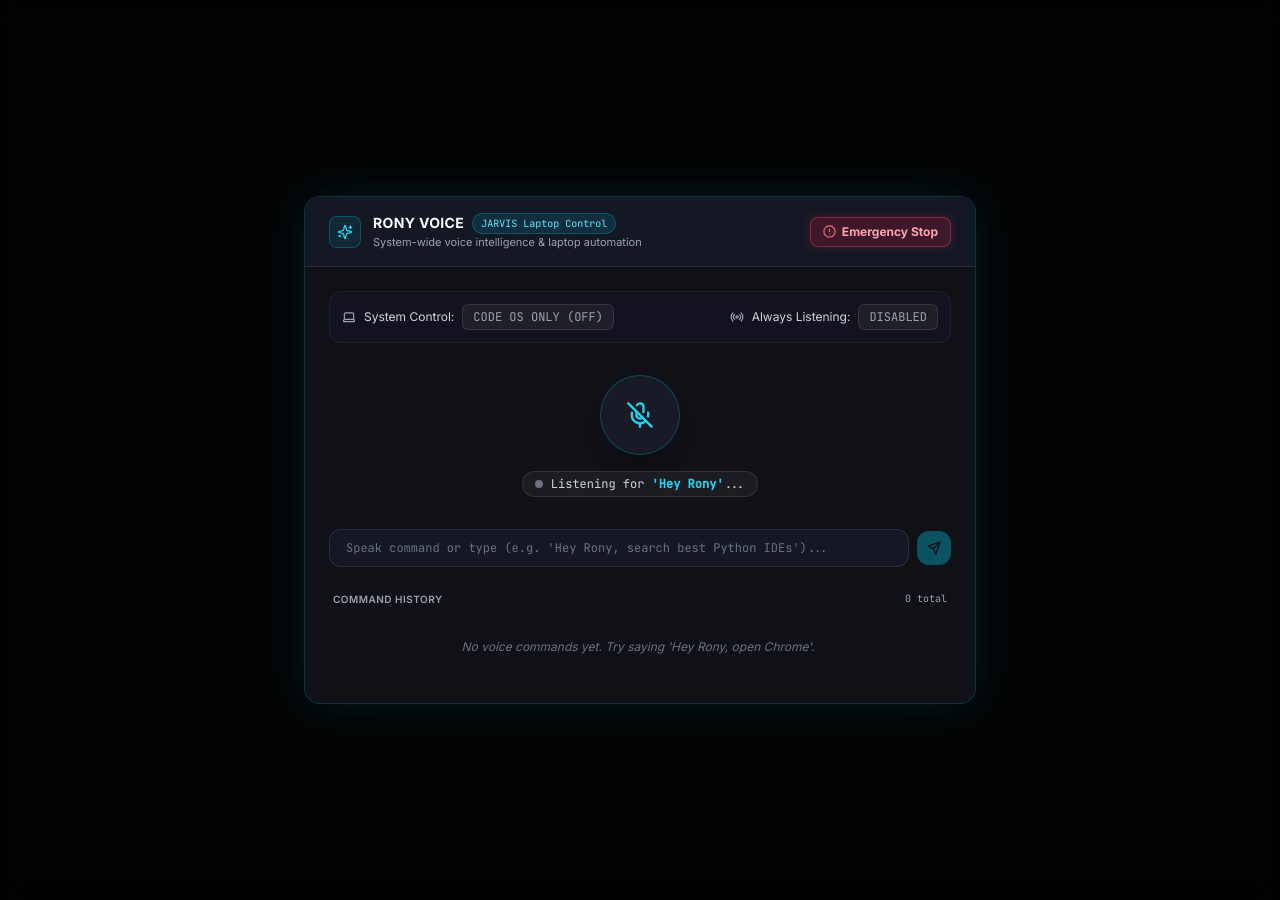
Test: Rony Voice Frontend Test Suite › test_system_control_toggle_renders: renders toggle and switches between Code OS and Laptop Control
Note: Click toggle
What coordinates should you click on to do the following:
click the button with test id "system-control-toggle"
I would click on:
 (538, 317)
Its box is [462,304,614,330].
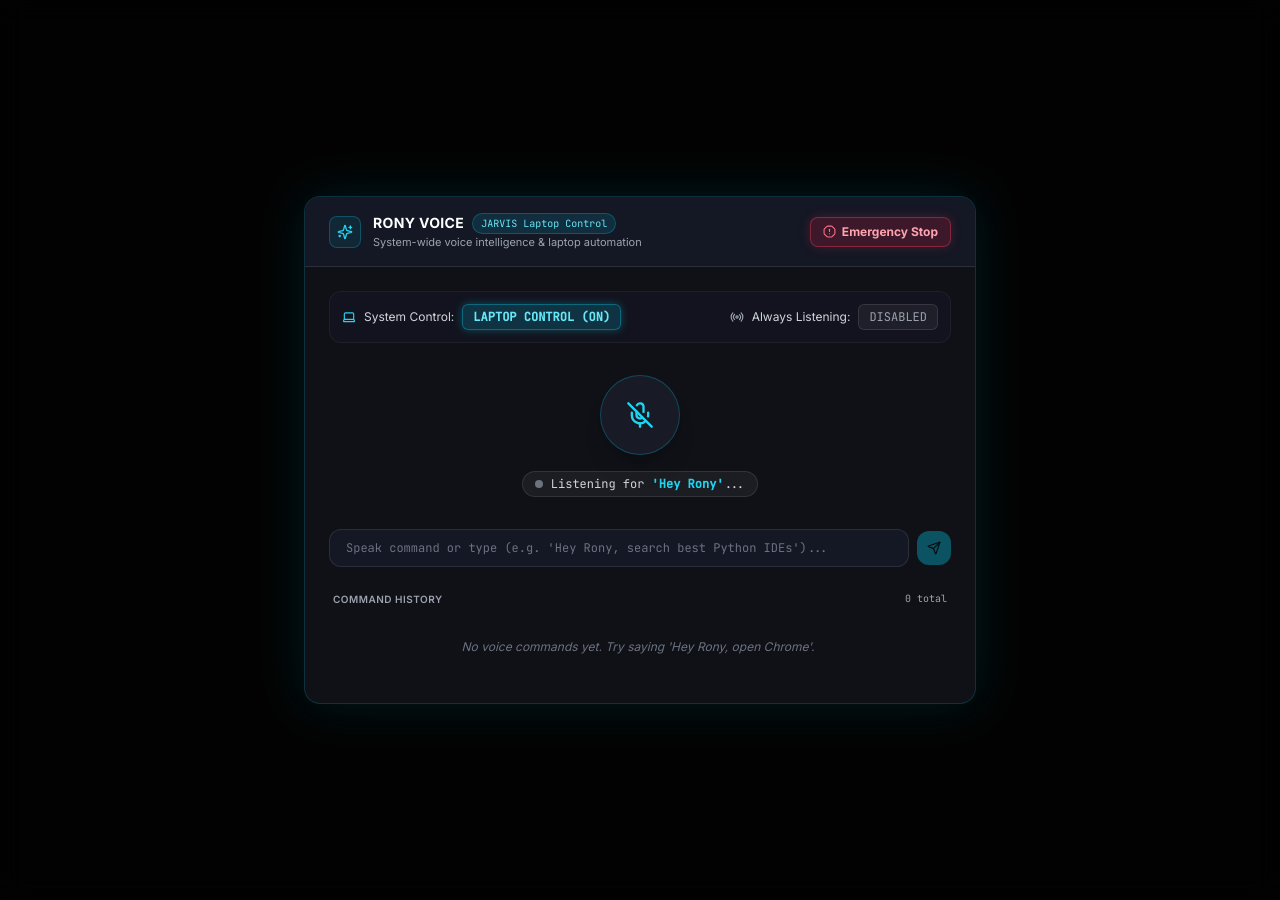
Now the button with test id "system-control-toggle" reads "LAPTOP CONTROL (ON)", box [462,304,621,330]
